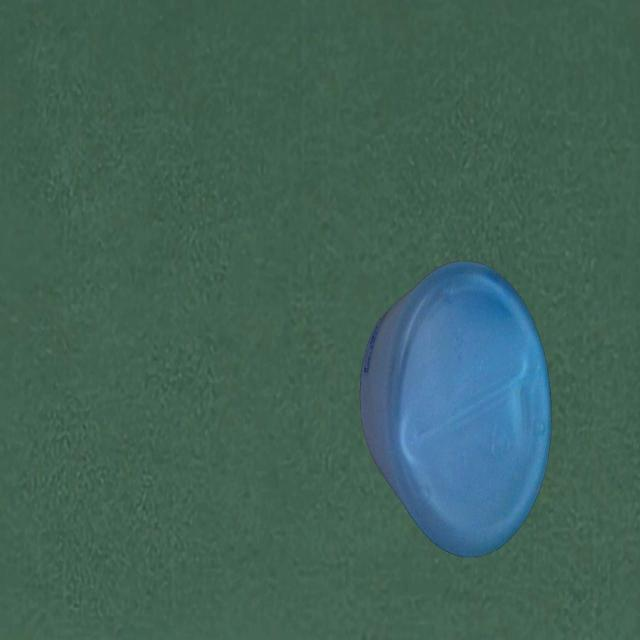bottle: (359, 258, 553, 565)
